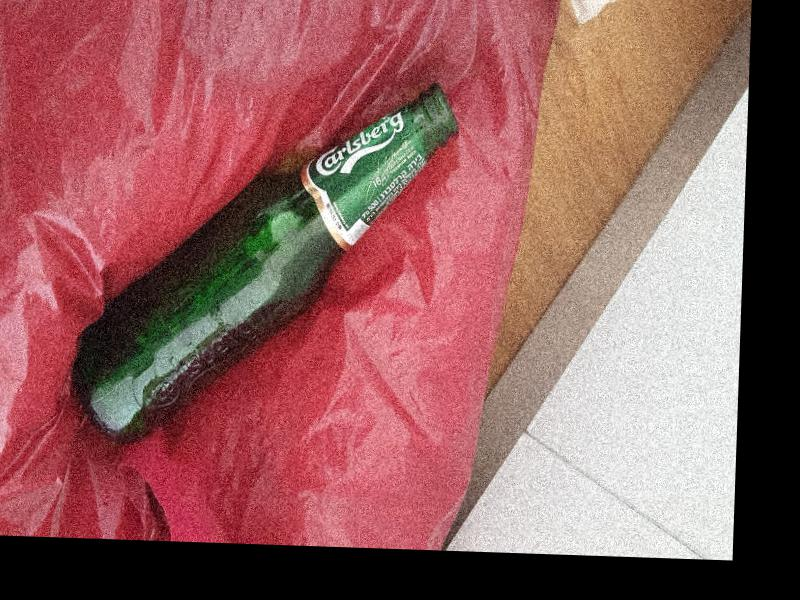Beer: (72, 70, 459, 450)
